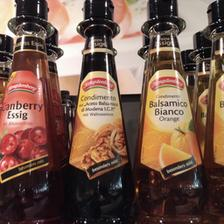Essig: (64, 0, 136, 224), (132, 0, 204, 224), (2, 0, 62, 224)
